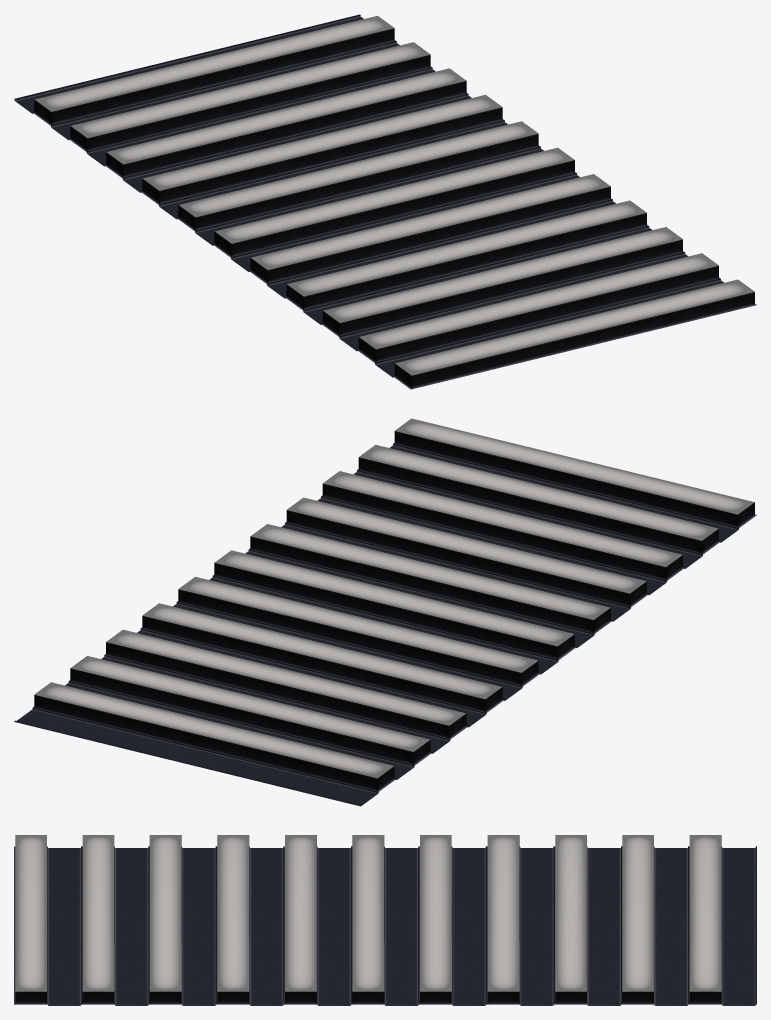
Rendered from потолок.fbx.
3 views of the same model, one above another, from view 1: azimuth 30°, elevation 25°; view 2: azimuth 150°, elevation 25°; view 3: azimuth 270°, elevation 25° (orthographic). The views are drawn at different scales.
Parts seen in each view (by area): view 1: VenatorLight32, VenatorLight25, VenatorLight29, VenatorLight22, VenatorLight26, VenatorLight28, VenatorLight27, VenatorLight23, VenatorLight42, VenatorLight30, VenatorLight31; view 2: VenatorLight22, VenatorLight26, VenatorLight30, VenatorLight27, VenatorLight25, VenatorLight23, VenatorLight29, VenatorLight28, VenatorLight31, VenatorLight32, VenatorLight42; view 3: VenatorLight26, VenatorLight28, VenatorLight32, VenatorLight22, VenatorLight25, VenatorLight30, VenatorLight27, VenatorLight29, VenatorLight31, VenatorLight23, VenatorLight42.
Part boxes in pixels (box(x1,y1,x2,y2)): VenatorLight32: box(375, 278, 756, 389); VenatorLight25: box(122, 93, 503, 204); VenatorLight29: box(266, 199, 647, 309); VenatorLight22: box(14, 14, 395, 125); VenatorLight26: box(158, 120, 539, 230); VenatorLight28: box(230, 173, 611, 283); VenatorLight27: box(194, 146, 575, 256); VenatorLight23: box(50, 41, 430, 151); VenatorLight42: box(86, 67, 467, 177); VenatorLight30: box(303, 225, 683, 336); VenatorLight31: box(339, 252, 719, 362); VenatorLight22: box(14, 682, 395, 806); VenatorLight26: box(173, 577, 539, 700); VenatorLight30: box(317, 471, 683, 595); VenatorLight27: box(209, 550, 575, 674); VenatorLight25: box(137, 603, 503, 727); VenatorLight23: box(65, 656, 431, 779); VenatorLight29: box(281, 497, 648, 621); VenatorLight28: box(245, 524, 612, 647); VenatorLight31: box(354, 445, 720, 568); VenatorLight32: box(390, 418, 756, 542); VenatorLight42: box(101, 629, 467, 753); VenatorLight26: box(419, 835, 487, 1005); VenatorLight28: box(284, 835, 352, 1005); VenatorLight32: box(14, 835, 82, 1005); VenatorLight22: box(689, 835, 756, 1005); VenatorLight25: box(487, 835, 554, 1005); VenatorLight30: box(149, 835, 216, 1005); VenatorLight27: box(352, 835, 419, 1005); VenatorLight29: box(217, 835, 284, 1005); VenatorLight31: box(82, 835, 149, 1005); VenatorLight23: box(622, 835, 689, 1005); VenatorLight42: box(555, 835, 622, 1005).
Size of the model in its own units: 337 by 13.48 by 669.
1 material, 1 textured.
